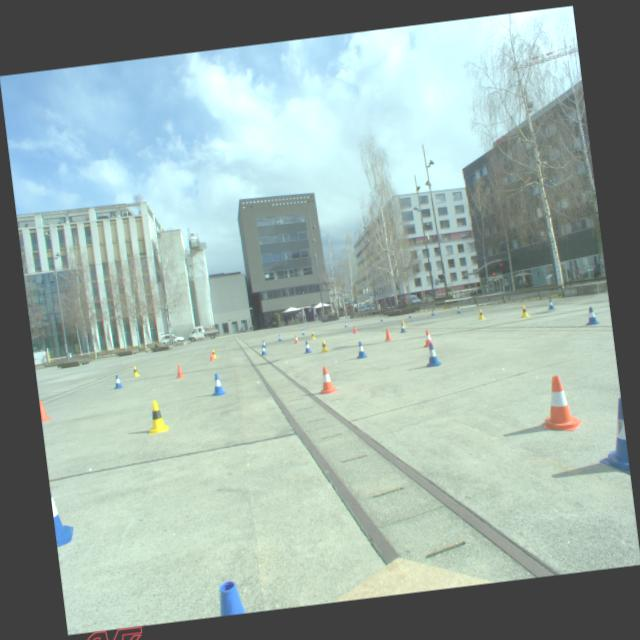blue_cone: (592, 398, 630, 478), (422, 341, 442, 368), (208, 372, 226, 396), (582, 306, 600, 326), (354, 340, 368, 358), (112, 373, 124, 389), (302, 340, 312, 353), (546, 298, 554, 310), (259, 344, 267, 355), (399, 322, 406, 332), (260, 340, 266, 348), (430, 308, 435, 316), (277, 334, 282, 341), (456, 306, 461, 313), (379, 316, 384, 322), (301, 328, 305, 334), (343, 322, 347, 327), (408, 312, 412, 317)
orange_cone: (536, 373, 582, 434), (315, 365, 339, 395), (420, 328, 436, 348), (39, 399, 52, 421), (174, 364, 184, 378), (383, 328, 393, 342), (208, 350, 215, 360), (293, 334, 299, 344), (352, 324, 358, 334)
yellow_cone: (144, 398, 168, 434), (520, 304, 530, 317), (320, 338, 328, 352), (476, 308, 485, 320), (132, 366, 140, 376), (399, 318, 406, 328), (211, 348, 217, 358), (310, 330, 316, 340)
